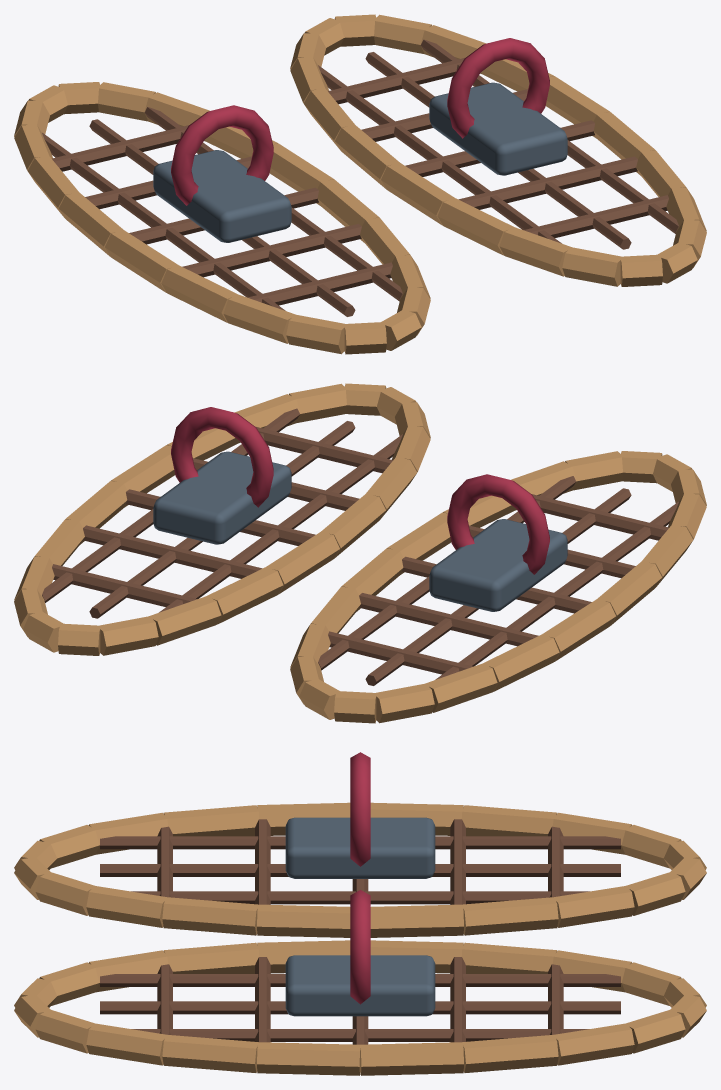
File: alpine-snow-village-woven-timber-snowshoes-798c1cf8__19817.glb
The picture shows the model from 3 angles, top to bottom: view 1: azimuth 30°, elevation 25°; view 2: azimuth 150°, elevation 25°; view 3: azimuth 270°, elevation 25°; orthographic projection. The views are drawn at different scales.
Visible parts, largest first — view 1: woven-timber-snowshoes-oak, woven-timber-snowshoes-wood, woven-timber-snowshoes-iron, woven-timber-snowshoes-berry; view 2: woven-timber-snowshoes-oak, woven-timber-snowshoes-wood, woven-timber-snowshoes-iron, woven-timber-snowshoes-berry; view 3: woven-timber-snowshoes-oak, woven-timber-snowshoes-wood, woven-timber-snowshoes-iron, woven-timber-snowshoes-berry.
Boxes of the visible parts, left/top/right/bottom form: woven-timber-snowshoes-oak: left=14, top=14, right=706, bottom=354; woven-timber-snowshoes-wood: left=42, top=39, right=678, bottom=316; woven-timber-snowshoes-iron: left=153, top=82, right=567, bottom=242; woven-timber-snowshoes-berry: left=171, top=38, right=549, bottom=205; woven-timber-snowshoes-oak: left=14, top=383, right=706, bottom=723; woven-timber-snowshoes-wood: left=42, top=408, right=678, bottom=685; woven-timber-snowshoes-iron: left=153, top=451, right=567, bottom=611; woven-timber-snowshoes-berry: left=171, top=407, right=549, bottom=574; woven-timber-snowshoes-oak: left=14, top=802, right=706, bottom=1075; woven-timber-snowshoes-wood: left=100, top=819, right=620, bottom=1044; woven-timber-snowshoes-iron: left=285, top=817, right=435, bottom=1016; woven-timber-snowshoes-berry: left=350, top=752, right=370, bottom=1004.
Bounding box in the file's own units: 0.9279 × 0.2114 × 1.06.
